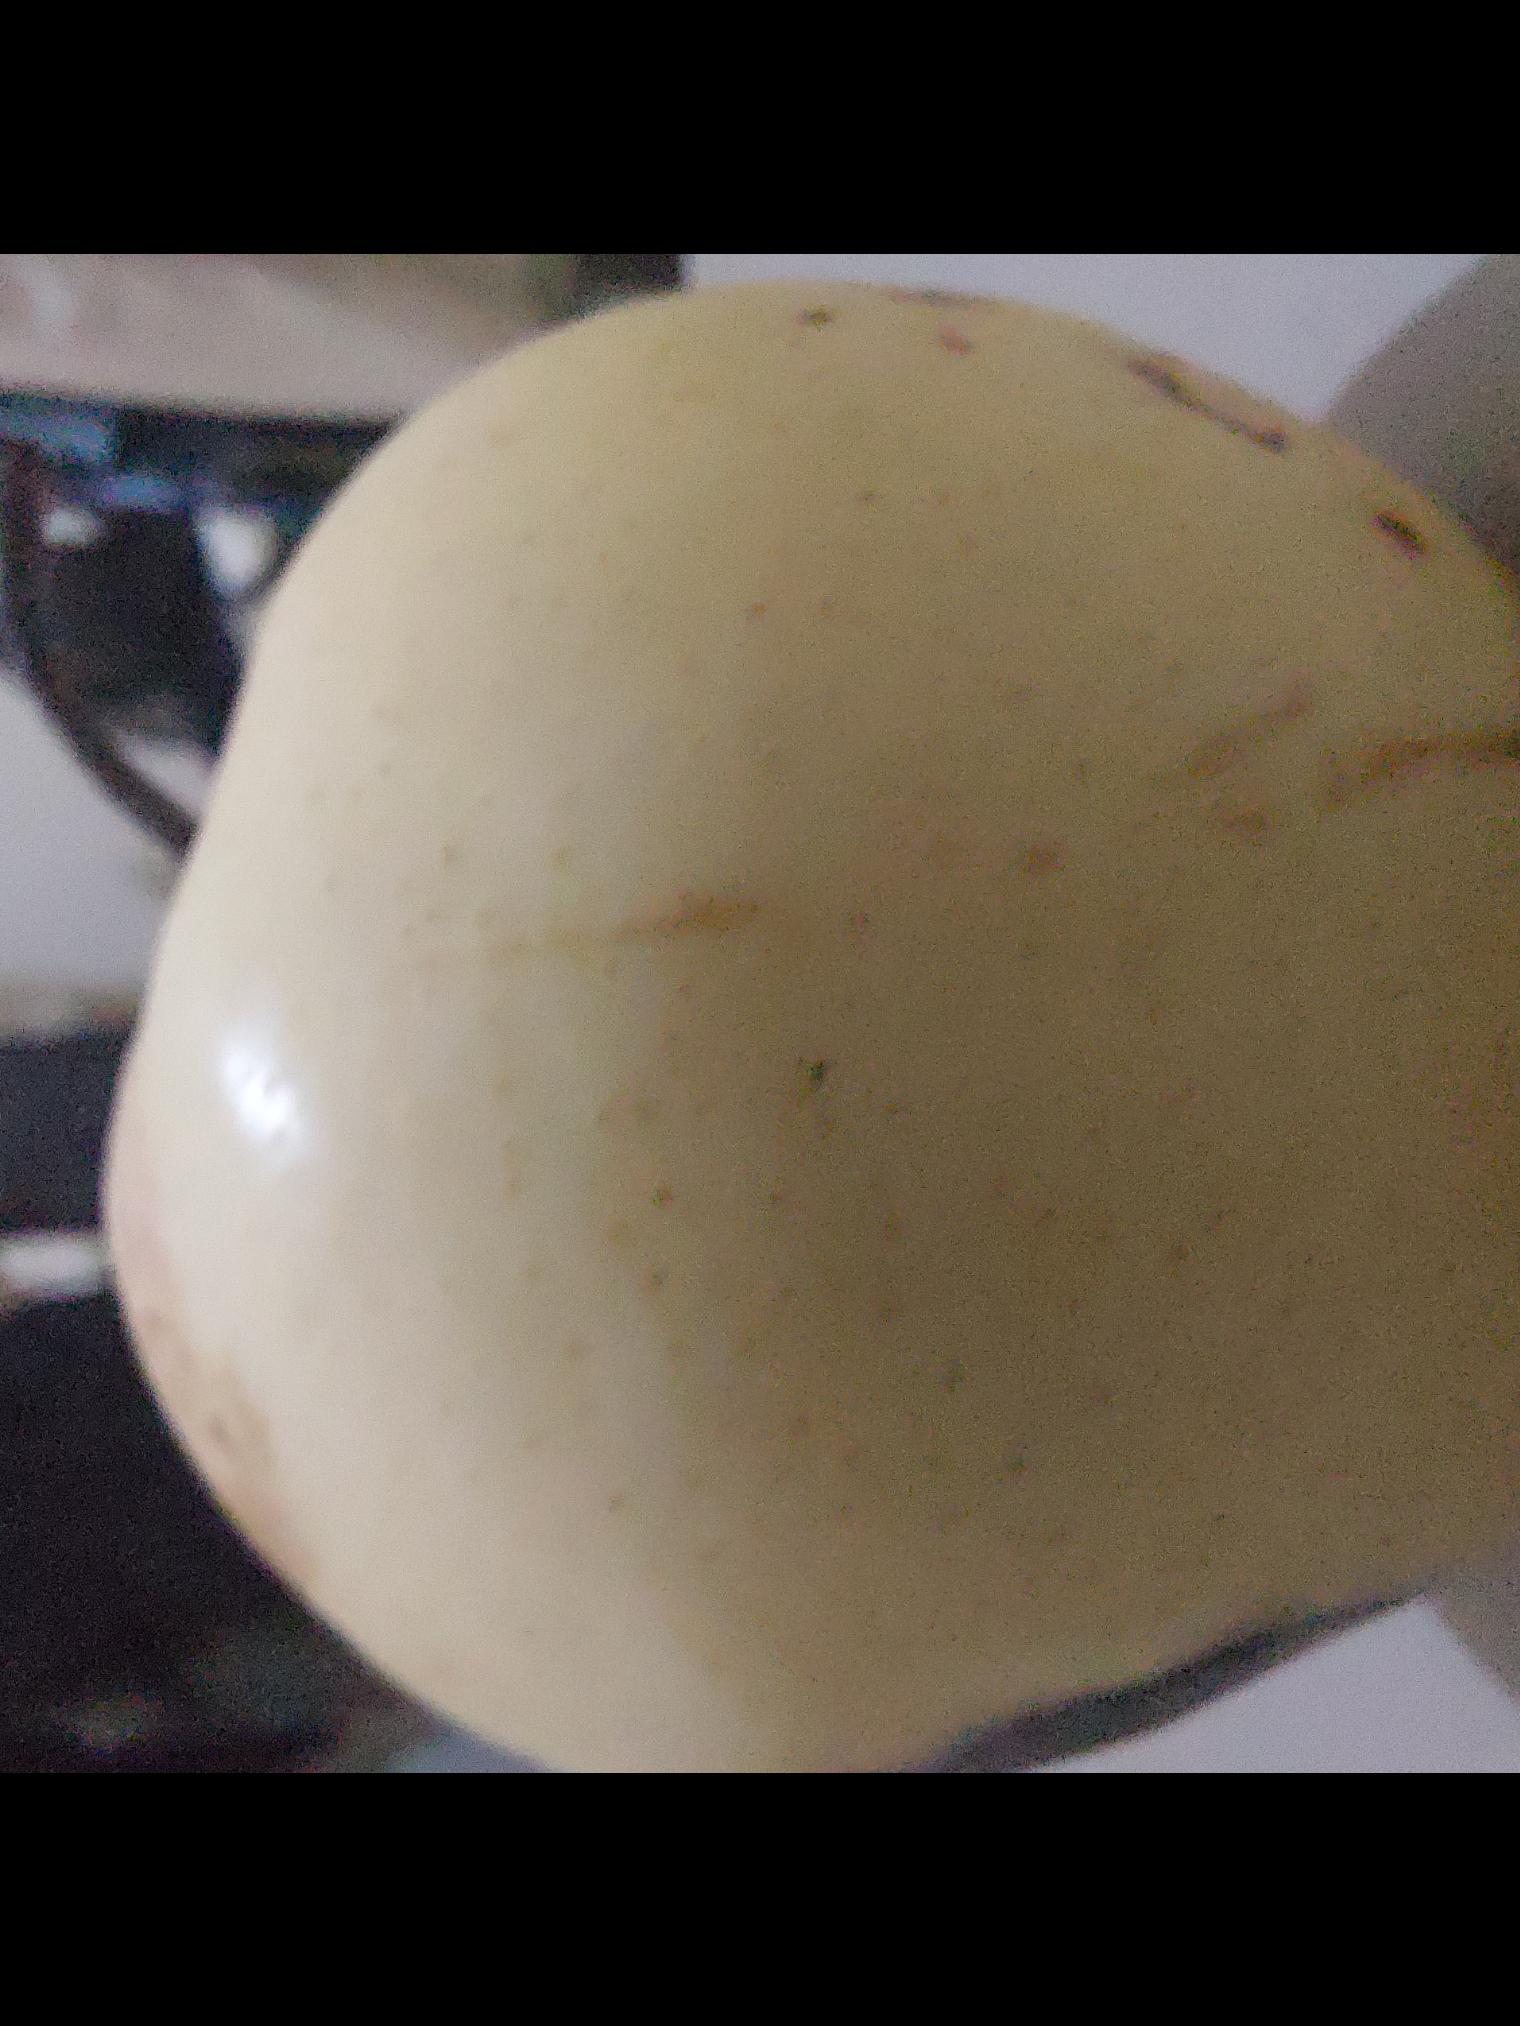Bad Pear: (117, 297, 1520, 1774)
